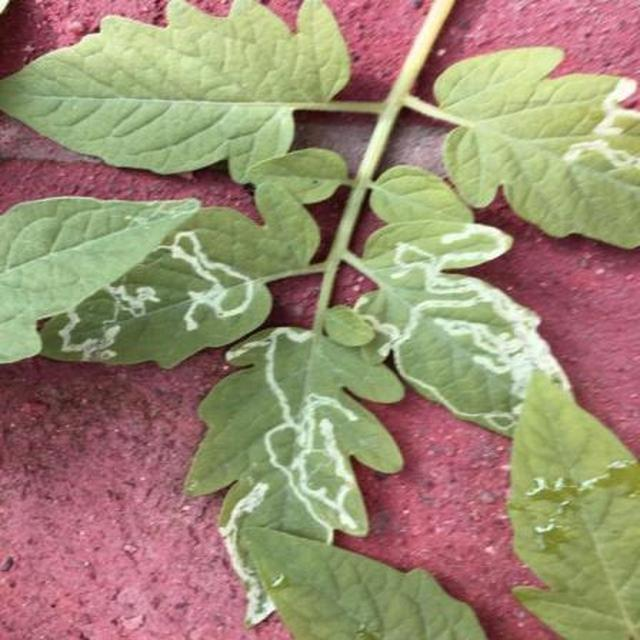Leaf Miner: (252, 135, 640, 640)
